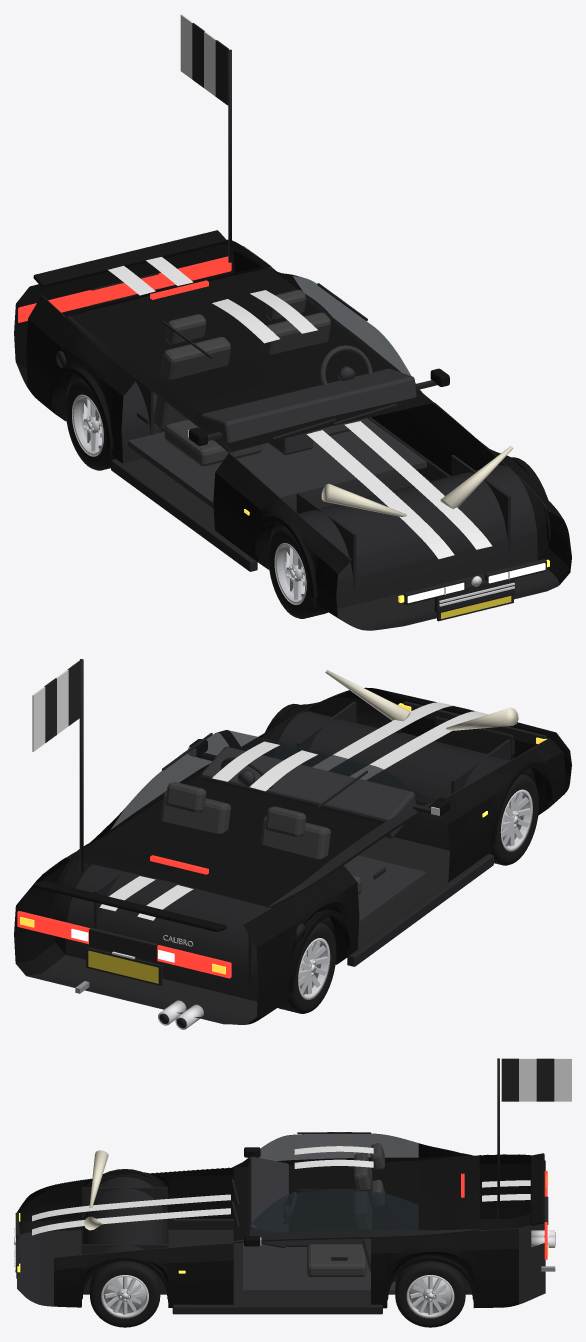
The model's file is calibro.glb.
3 renders of one model, top to bottom at view 1: azimuth 30°, elevation 25°; view 2: azimuth 150°, elevation 25°; view 3: azimuth 270°, elevation 25°, orthographic. The views are drawn at different scales.
Visible parts, largest first — view 1: underbody, tub, cabin_floor, fender_R, dash, quarter_R, tail, fender_L, door_L, wheel_FR, wheel_RR, spoiler (+22 smaller); view 2: underbody, tub, quarter_R, dash, fender_R, cabin_glass, quarter_L, nose, wheel_RR, wheel_FR, cabin_floor, skirt_R (+31 smaller); view 3: tub, underbody, cabin_glass, quarter_L, fender_L, fender_R, cabin_floor, wheel_FL, wheel_RL, dash, quarter_R, skirt_L (+23 smaller).
Part boxes in pixels (<box>): underbody: <box>26,368,559,630</box>; tub: <box>66,267,433,452</box>; cabin_floor: <box>128,418,426,508</box>; fender_R: <box>213,453,351,623</box>; dash: <box>201,368,416,442</box>; quarter_R: <box>26,296,136,463</box>; tail: <box>14,239,256,387</box>; fender_L: <box>437,405,565,573</box>; door_L: <box>371,403,449,480</box>; wheel_FR: <box>268,527,328,618</box>; wheel_RR: <box>65,377,115,470</box>; spoiler: <box>33,230,226,287</box>; underbody: <box>26,711,536,1024</box>; tub: <box>66,773,430,907</box>; quarter_R: <box>243,865,359,1024</box>; dash: <box>201,746,415,838</box>; fender_R: <box>441,738,565,882</box>; cabin_glass: <box>110,730,431,829</box>; quarter_L: <box>26,843,92,973</box>; nose: <box>336,687,571,794</box>; wheel_RR: <box>278,920,336,1013</box>; wheel_FR: <box>488,774,538,865</box>; cabin_floor: <box>344,855,426,926</box>; skirt_R: <box>347,854,493,966</box>; tub: <box>233,1155,479,1243</box>; underbody: <box>17,1177,545,1306</box>; cabin_glass: <box>249,1132,418,1236</box>; quarter_L: <box>371,1228,518,1308</box>; fender_L: <box>54,1243,233,1307</box>; fender_R: <box>54,1168,233,1231</box>; cabin_floor: <box>243,1242,409,1294</box>; wheel_FL: <box>90,1261,160,1327</box>; wheel_RL: <box>395,1261,465,1327</box>; dash: <box>247,1156,288,1248</box>; quarter_R: <box>479,1154,518,1229</box>; skirt_L: <box>172,1304,382,1314</box>.
Bounding box in the file's own units: 1.87 × 2.4 × 4.75.
